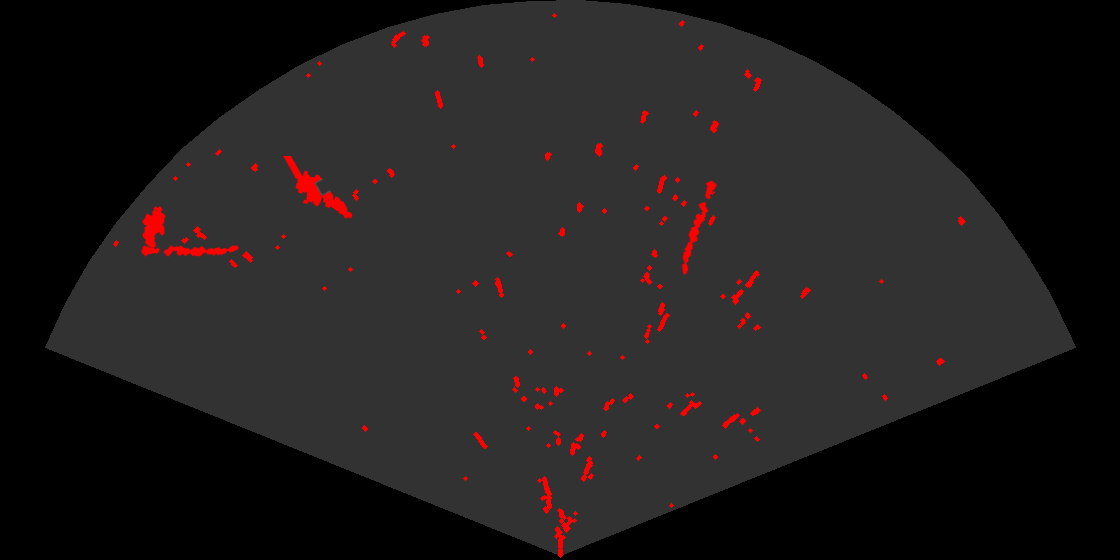AUV: (141, 204, 167, 255)
chain: (680, 179, 718, 276), (139, 244, 239, 258)
frogman: (283, 156, 354, 220)
